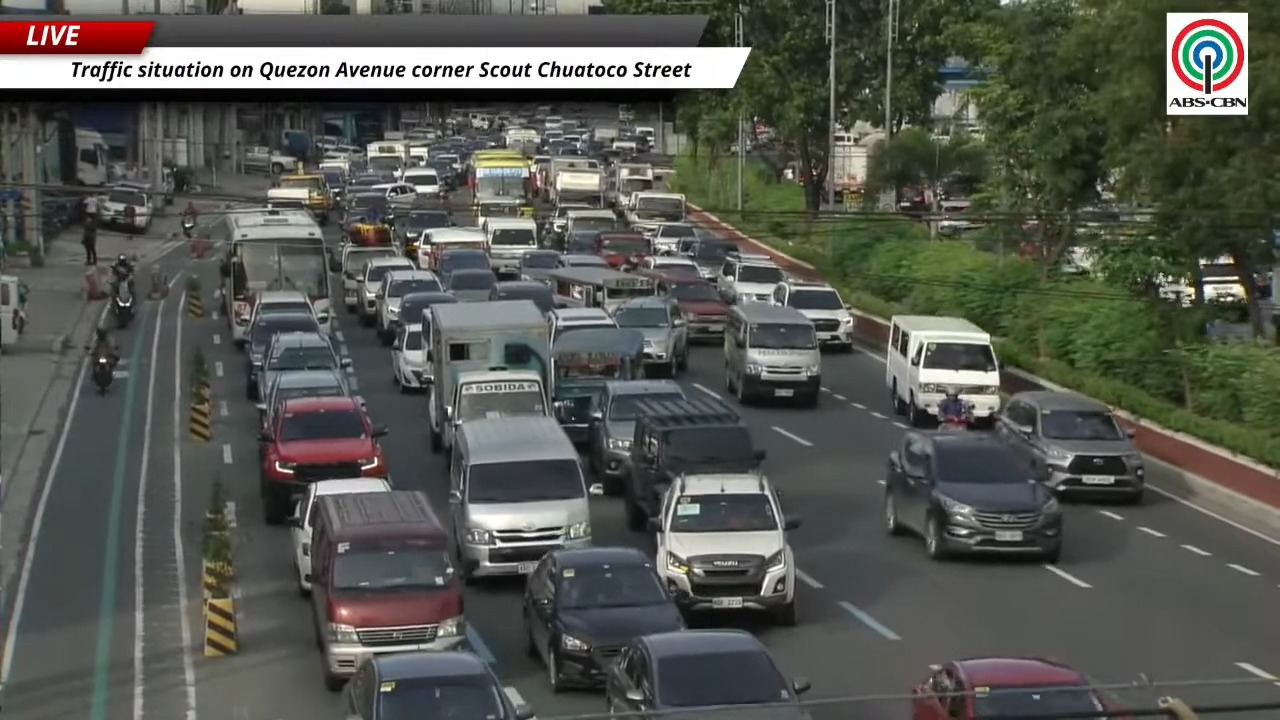bus: (212, 209, 332, 345), (468, 159, 533, 215), (468, 158, 529, 197), (471, 148, 527, 163)
car: (883, 431, 1062, 562), (649, 469, 799, 625), (522, 547, 684, 690), (623, 395, 764, 531), (605, 629, 809, 719), (995, 391, 1144, 502), (260, 397, 386, 524), (911, 657, 1123, 719), (343, 650, 533, 719), (290, 478, 391, 596), (588, 379, 686, 495), (246, 312, 321, 401), (251, 332, 350, 399), (612, 296, 688, 376), (771, 279, 853, 351), (256, 369, 352, 427), (375, 269, 442, 345), (655, 276, 727, 342), (358, 256, 416, 326), (339, 245, 399, 312), (717, 254, 785, 303), (391, 321, 432, 392), (394, 208, 454, 256), (98, 183, 153, 232), (547, 307, 616, 346), (249, 290, 314, 325), (344, 179, 389, 228), (689, 237, 738, 281), (436, 247, 490, 286), (489, 281, 554, 313), (400, 291, 457, 323), (445, 268, 497, 301), (561, 229, 607, 264), (636, 255, 702, 279), (518, 249, 560, 282), (400, 166, 443, 196), (549, 203, 591, 232), (653, 223, 695, 251), (371, 182, 416, 207), (557, 253, 607, 267)
motorcycle: (112, 284, 134, 329), (939, 403, 973, 430), (92, 355, 113, 394), (181, 215, 195, 238)
truck: (427, 300, 550, 451), (625, 191, 686, 236), (550, 168, 605, 207), (829, 142, 868, 192), (613, 163, 654, 207)
